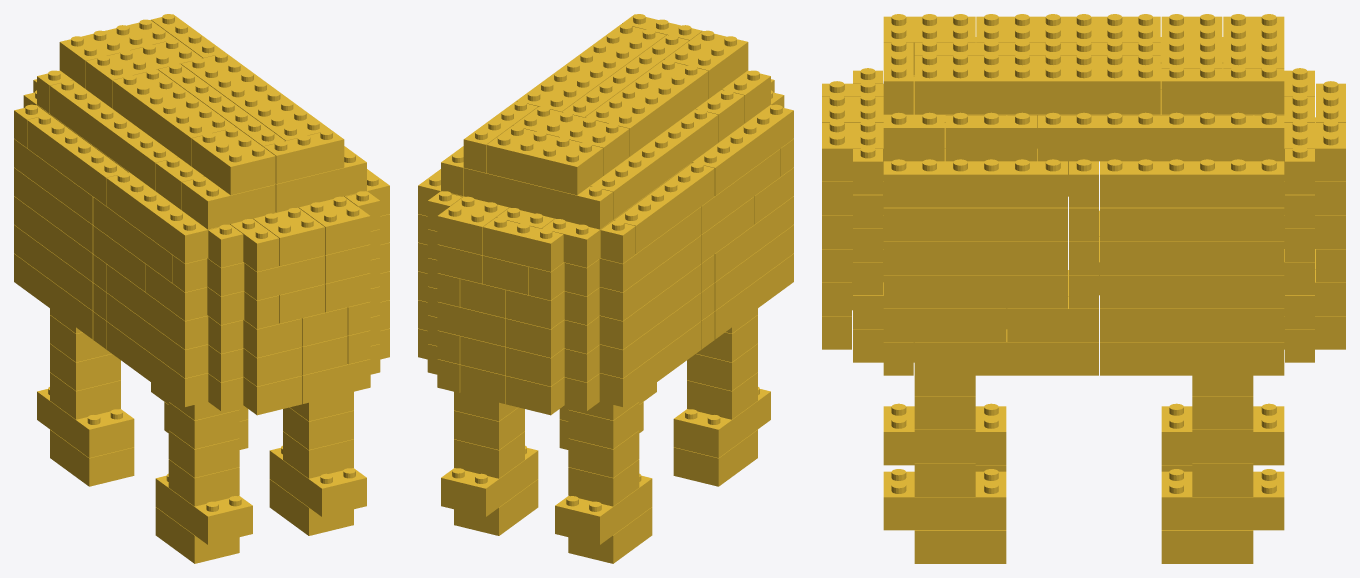
3 renders of one model, left to right at view 1: azimuth 30°, elevation 25°; view 2: azimuth 150°, elevation 25°; view 3: azimuth 270°, elevation 25°, orthographic. The views are drawn at different scales.
Parts seen in each view (by area): view 1: car_L5_P1_S71107; view 2: car_L5_P1_S71107; view 3: car_L5_P1_S71107.
Part boxes in pixels (x1=…): car_L5_P1_S71107: x1=14, y1=14, x2=389, y2=563; car_L5_P1_S71107: x1=418, y1=14, x2=793, y2=563; car_L5_P1_S71107: x1=822, y1=14, x2=1345, y2=563.
Bounding box in the file's own units: 8.97 × 16.99 × 16.97.
